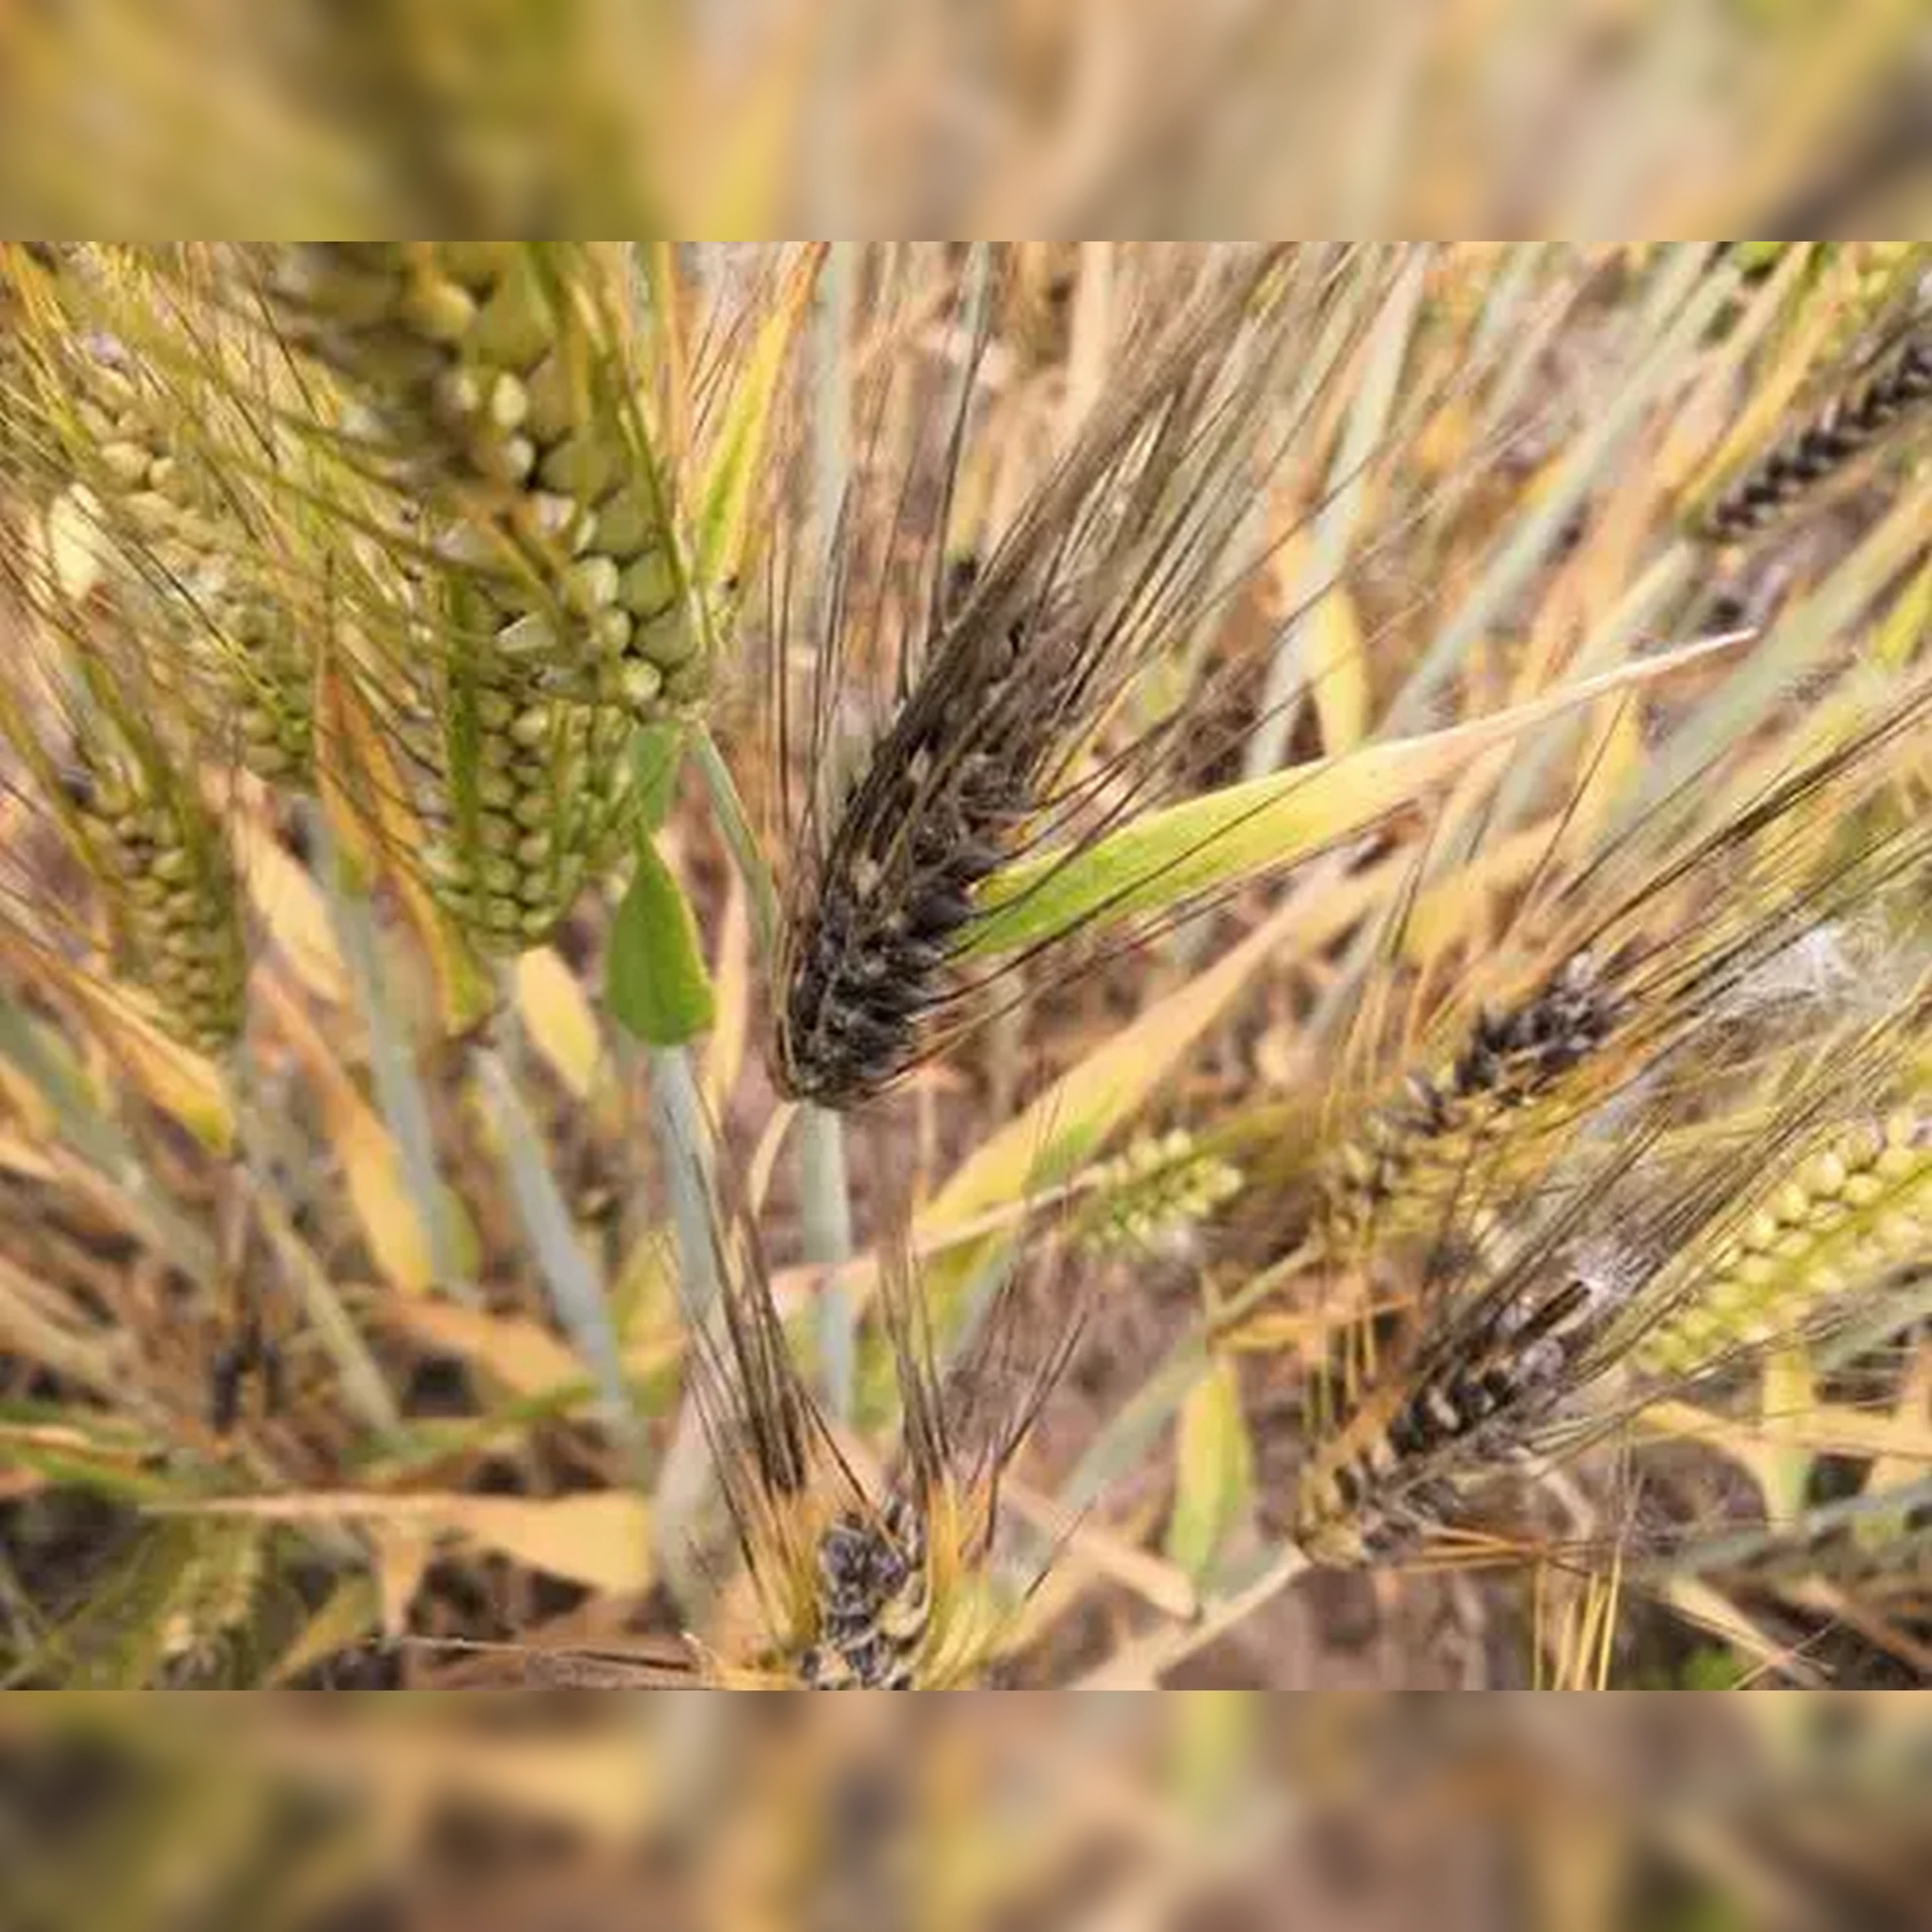Wheat Loose Smut: (763, 501, 1191, 1139)
